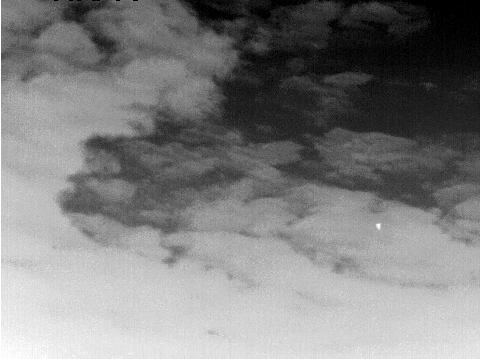dim target: (374, 222, 382, 231)
